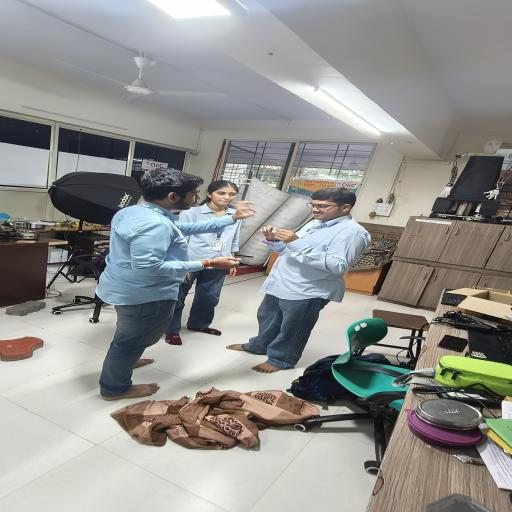survivor: (94, 167, 256, 401), (226, 187, 372, 374), (164, 180, 243, 346)
